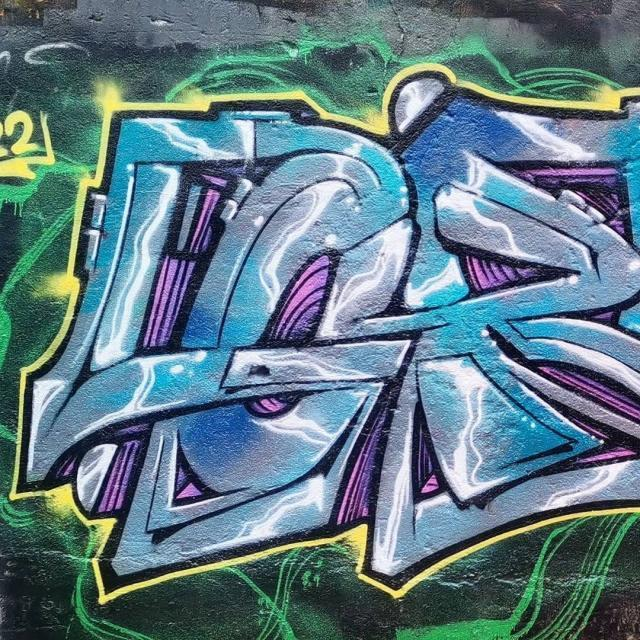-: (15, 69, 638, 611), (1, 94, 59, 188)
